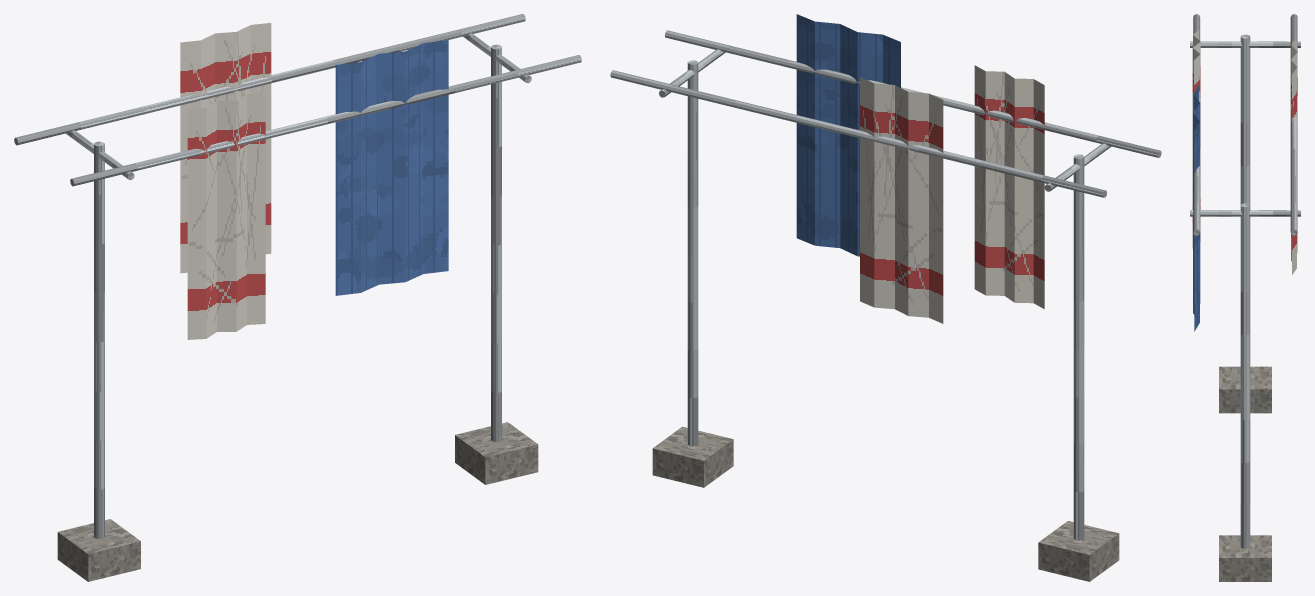
File: laundry_pole.glb
3 renders of one model, left to right at view 1: azimuth 30°, elevation 25°; view 2: azimuth 150°, elevation 25°; view 3: azimuth 270°, elevation 25°, orthographic. The views are drawn at different scales.
Parts seen in each view (by area): view 1: Cube; view 2: Cube; view 3: Cube.
Boxes of the visible parts, left/top/right/bottom form: Cube: left=14, top=14, right=581, bottom=581; Cube: left=610, top=14, right=1161, bottom=581; Cube: left=1190, top=14, right=1300, bottom=581.
Bounding box in the file's own units: 2.3 × 2.05 × 0.5.
4 materials, 4 textured.
